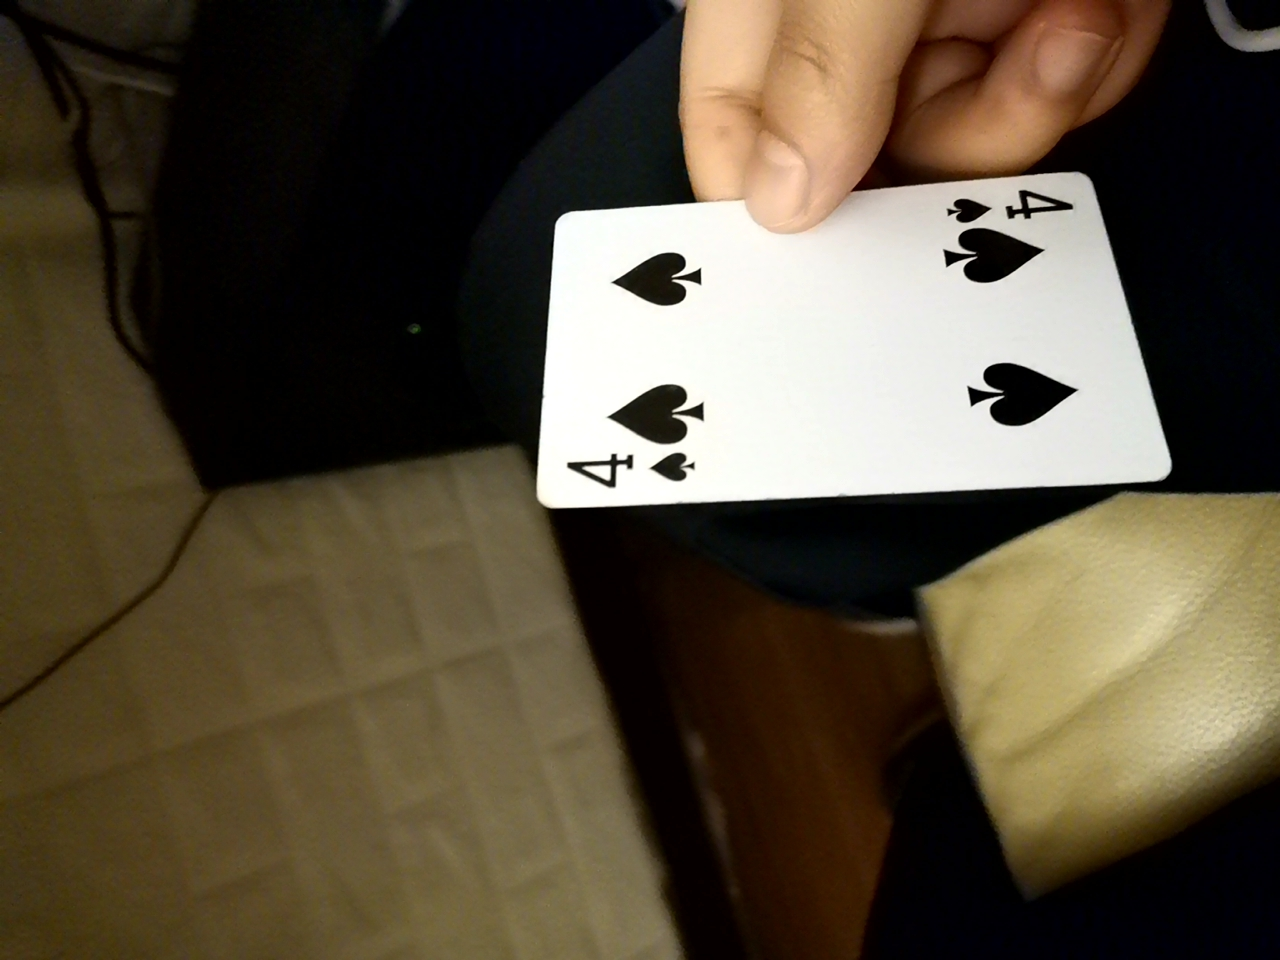ht 4: (507, 176, 1171, 518)
